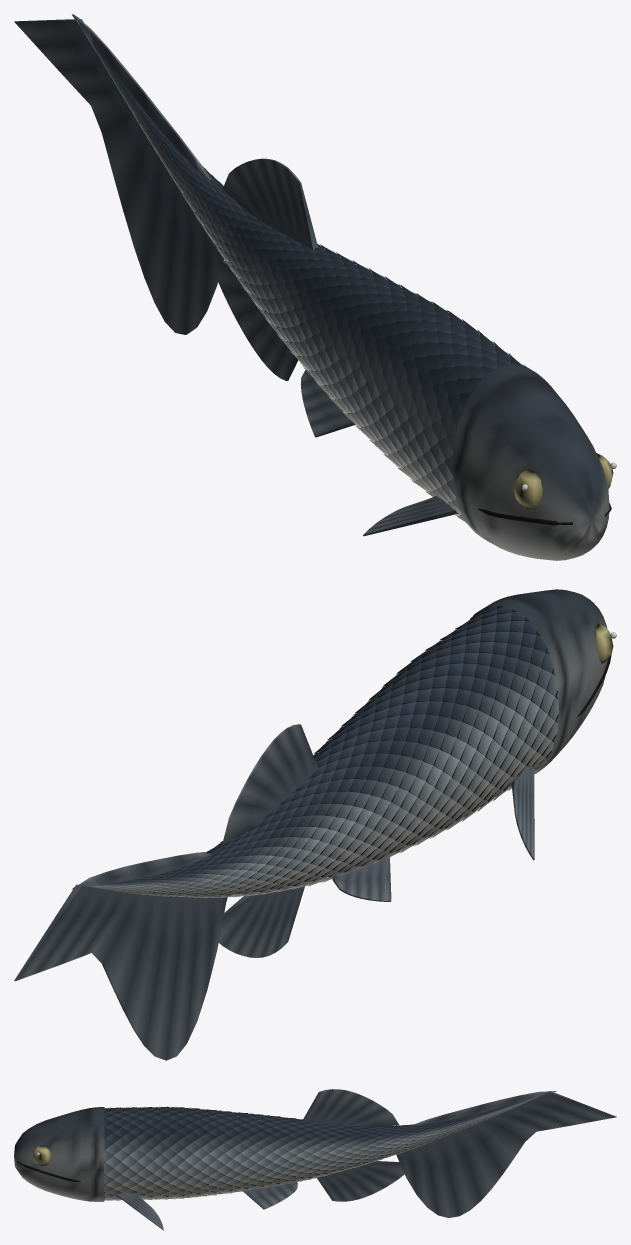
The model's file is Cheirolepis.fbx.
The picture shows the model from 3 angles, top to bottom: view 1: azimuth 30°, elevation 25°; view 2: azimuth 150°, elevation 25°; view 3: azimuth 270°, elevation 25°; orthographic projection. The views are drawn at different scales.
Visible parts, largest first — view 1: Cheirolepis; view 2: Cheirolepis; view 3: Cheirolepis.
Boxes of the visible parts, box(x1,y1,x2,y2) form: Cheirolepis: box(14, 14, 616, 560); Cheirolepis: box(14, 589, 616, 1060); Cheirolepis: box(14, 1089, 616, 1230).
Bounding box in the file's own units: 0.3094 × 0.4236 × 1.8.
